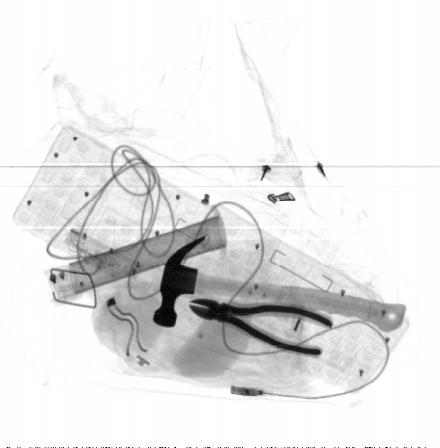Hammer: (152, 235, 408, 336)
Pliers: (186, 297, 335, 359)
